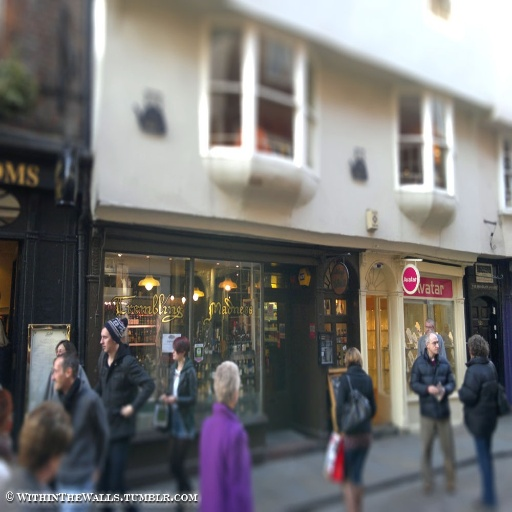hand: (120, 403, 134, 417), (436, 382, 445, 402), (164, 397, 177, 405), (428, 386, 438, 395), (158, 392, 166, 401)
